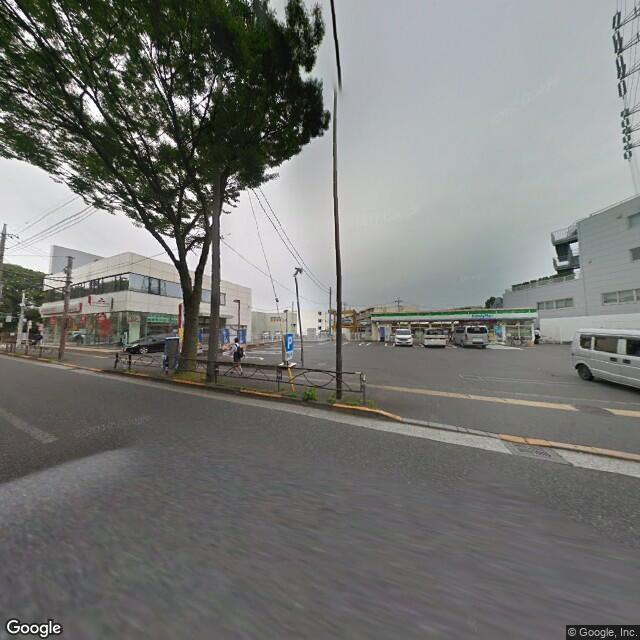family_mart: (370, 304, 542, 326)
